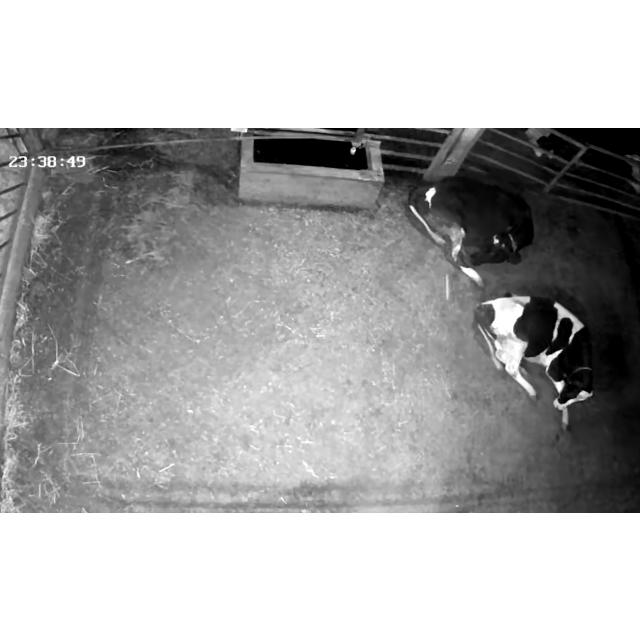lay: (450, 286, 626, 424), (402, 164, 548, 282)
